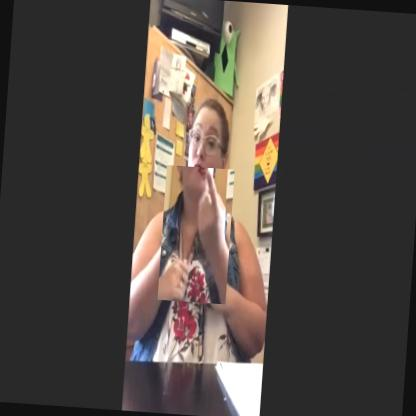HowAreYou: (158, 165, 235, 304)
